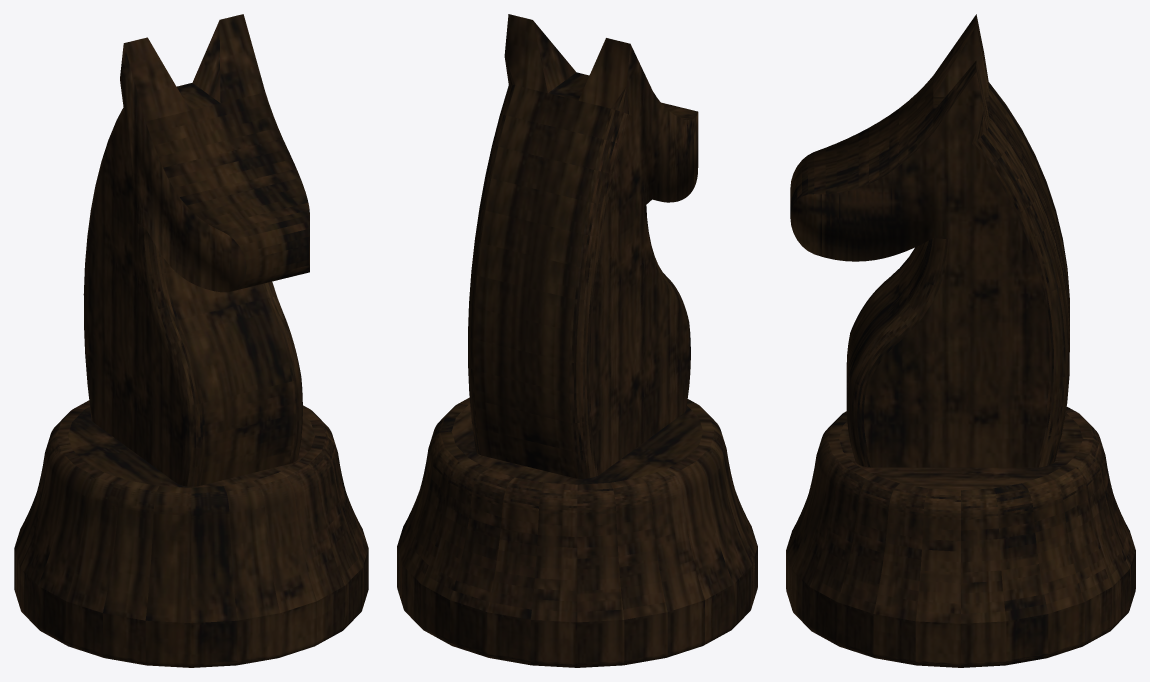
Rendered from Knight_b.dae.
The picture shows the model from 3 angles, left to right: view 1: azimuth 30°, elevation 25°; view 2: azimuth 150°, elevation 25°; view 3: azimuth 270°, elevation 25°; orthographic projection. The views are drawn at different scales.
Parts seen in each view (by area): view 1: group_0, group_1; view 2: group_0, group_1; view 3: group_0, group_1.
Boxes of the visible parts, <box> form: group_0: <box>83,14,309,486</box>; group_1: <box>14,400,368,667</box>; group_0: <box>468,14,698,478</box>; group_1: <box>397,397,757,667</box>; group_0: <box>790,14,1069,467</box>; group_1: <box>786,407,1135,667</box>.
Bounding box in the file's own units: 26.91 × 26.91 × 46.91.
1 material, 1 textured.
